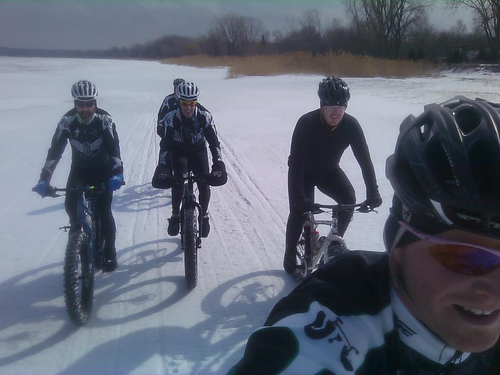bikerider: (269, 59, 382, 307), (30, 69, 132, 323), (150, 73, 229, 295)
